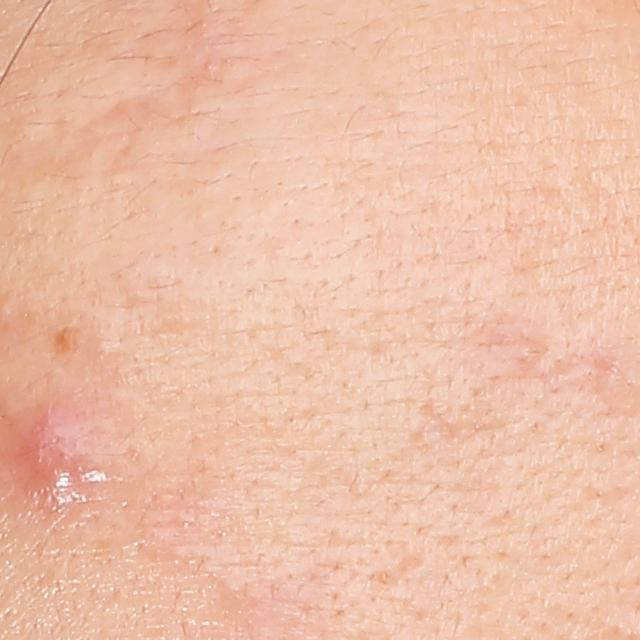papule: (18, 406, 97, 494)
